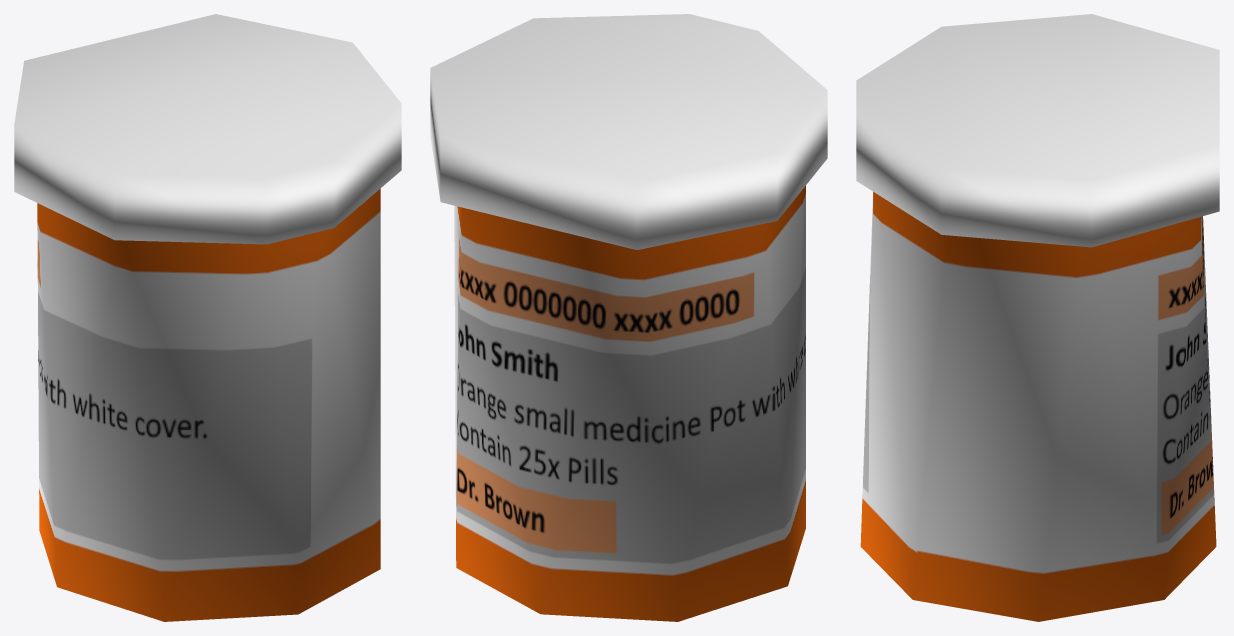
Rendered from medicine.glb.
The picture shows the model from 3 angles, left to right: view 1: azimuth 30°, elevation 25°; view 2: azimuth 150°, elevation 25°; view 3: azimuth 270°, elevation 25°; orthographic projection. The views are drawn at different scales.
Parts seen in each view (by area): view 1: Medicine_0; view 2: Medicine_0; view 3: Medicine_0.
Part boxes in pixels (bbox=[...]): Medicine_0: bbox=[14, 14, 401, 621]; Medicine_0: bbox=[430, 14, 827, 621]; Medicine_0: bbox=[856, 14, 1219, 621].
Size of the model in its own units: 2.21 by 2.79 by 2.04.
Materials: 2 (2 with a texture image).
